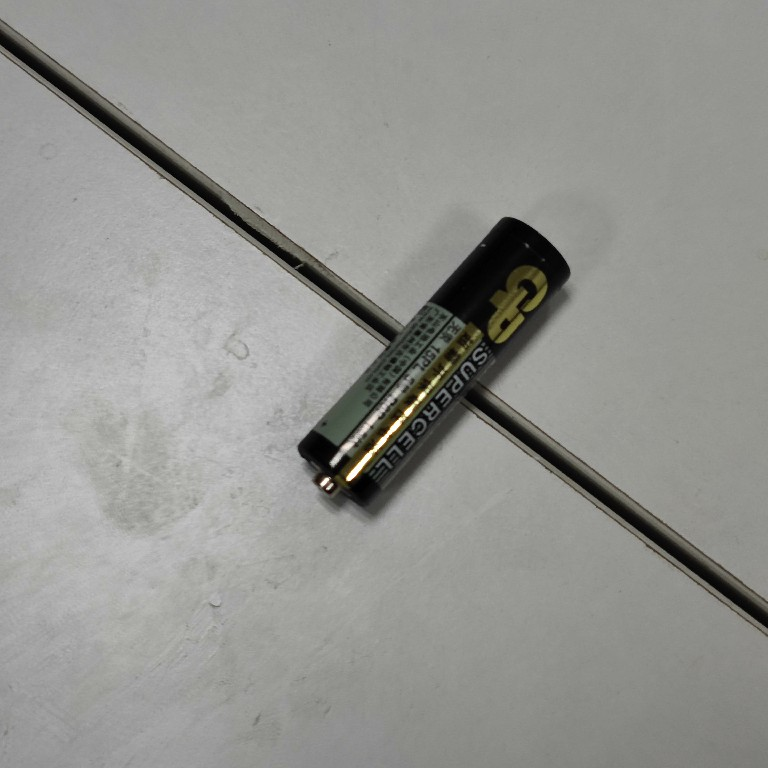charge: (294, 212, 575, 509)
